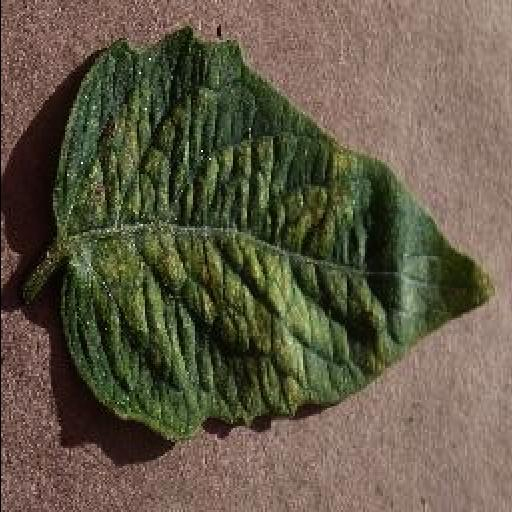disease_tomato: (50, 24, 496, 440)
